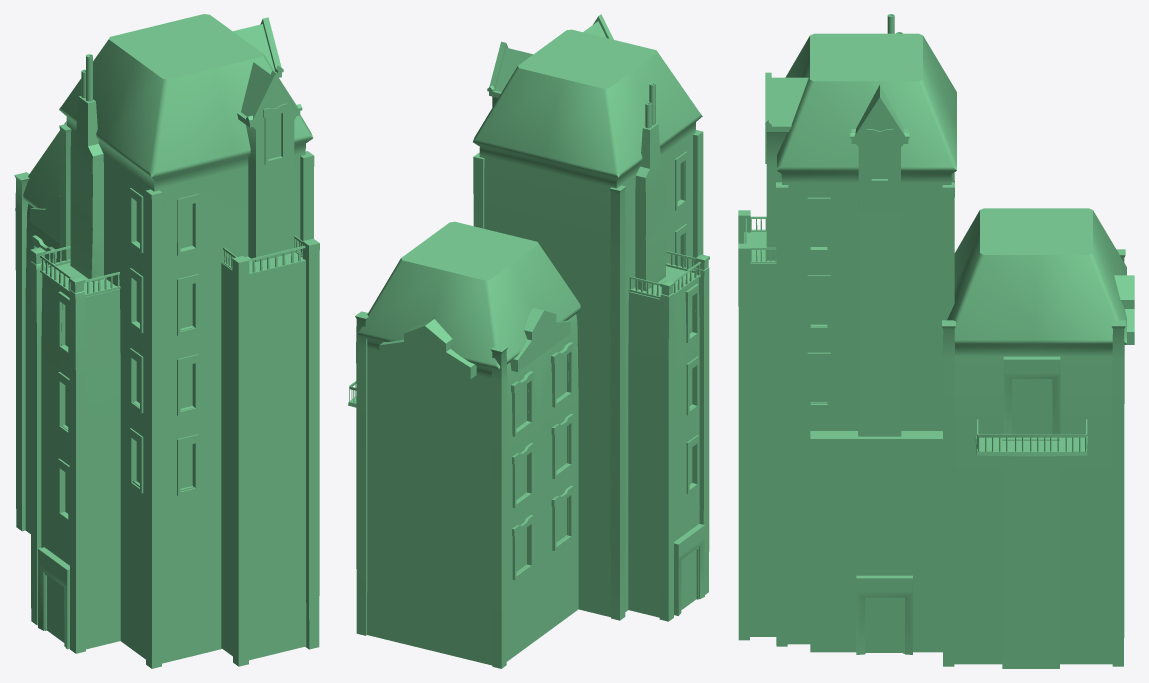
Rendered from Bgr_Building9.fbx.
The picture shows the model from 3 angles, left to right: view 1: azimuth 30°, elevation 25°; view 2: azimuth 150°, elevation 25°; view 3: azimuth 270°, elevation 25°; orthographic projection. The views are drawn at different scales.
Visible parts, largest first — view 1: Bgr_Building9; view 2: Bgr_Building9; view 3: Bgr_Building9.
Part boxes in pixels (box(x1,y1,x2,y2)): Bgr_Building9: box(14, 14, 319, 668); Bgr_Building9: box(348, 14, 709, 668); Bgr_Building9: box(738, 14, 1134, 668).
Bounding box in the file's own units: 1644 × 3241 × 2102.
